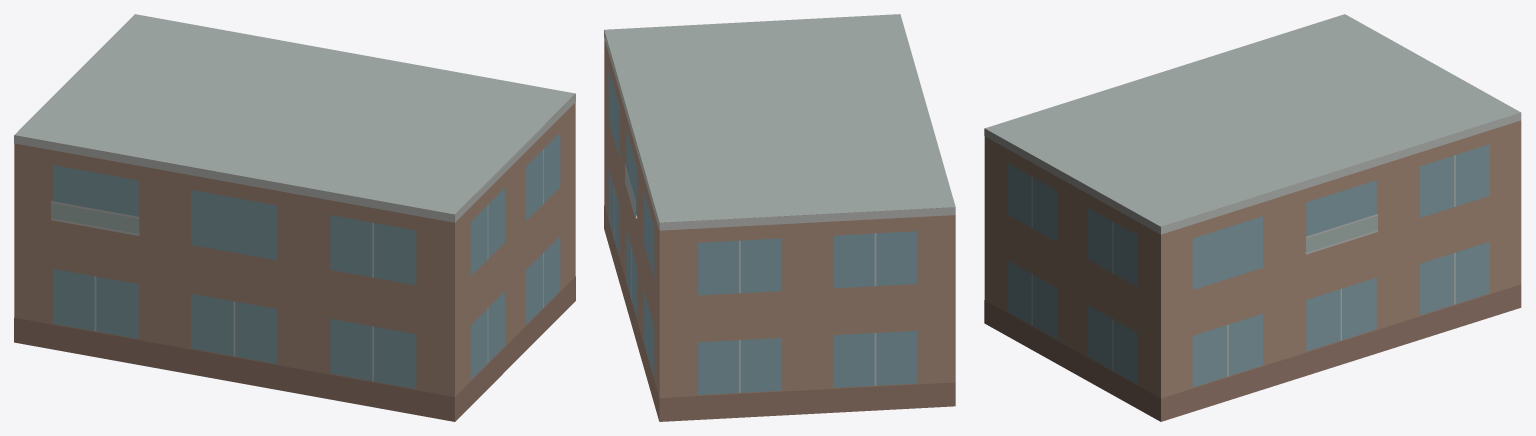
File: survey-upis-33015877.glb
3 views of the same model, side by side, from view 1: azimuth 30°, elevation 25°; view 2: azimuth 150°, elevation 25°; view 3: azimuth 270°, elevation 25° (orthographic). The views are drawn at different scales.
Parts seen in each view (by area): view 1: survey-upis-33015877.tmp; view 2: survey-upis-33015877.tmp; view 3: survey-upis-33015877.tmp.
Boxes of the visible parts, bbox=[...] form: survey-upis-33015877.tmp: bbox=[14, 14, 575, 421]; survey-upis-33015877.tmp: bbox=[604, 14, 955, 421]; survey-upis-33015877.tmp: bbox=[984, 14, 1521, 421].
Bounding box in the file's own units: 14.29 × 6.1 × 15.22.
